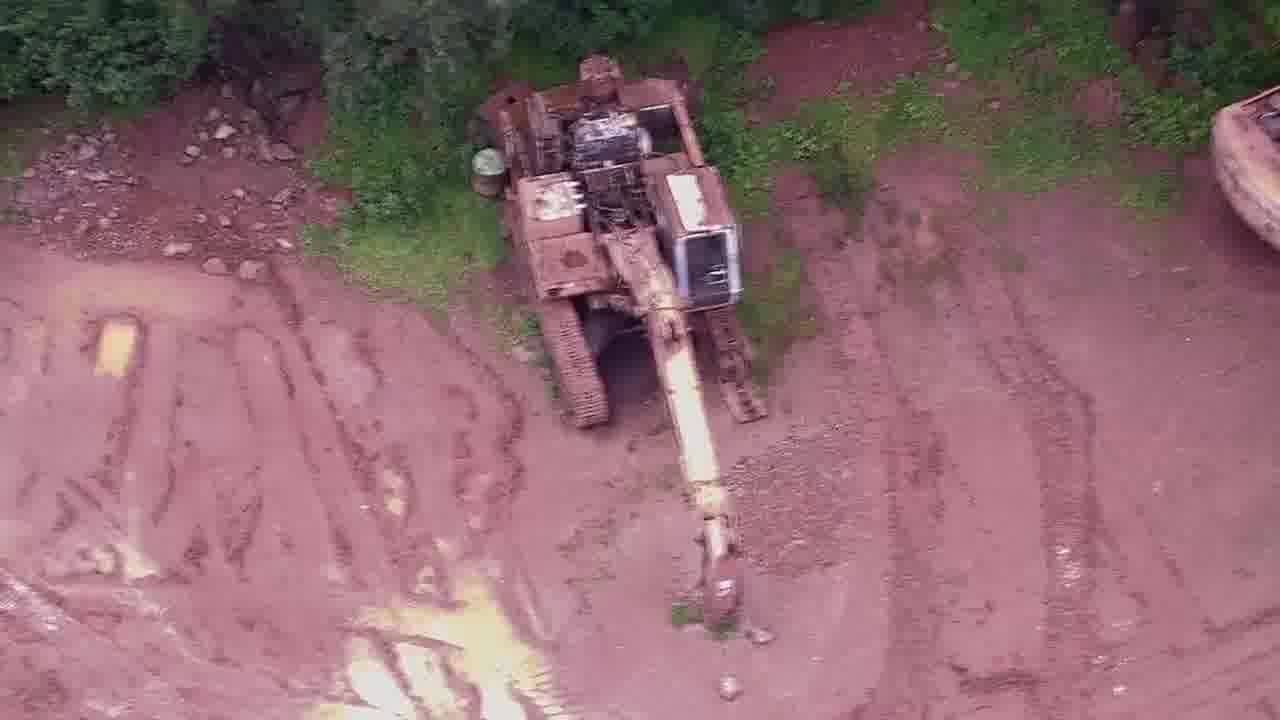HMV: (481, 53, 766, 579)
